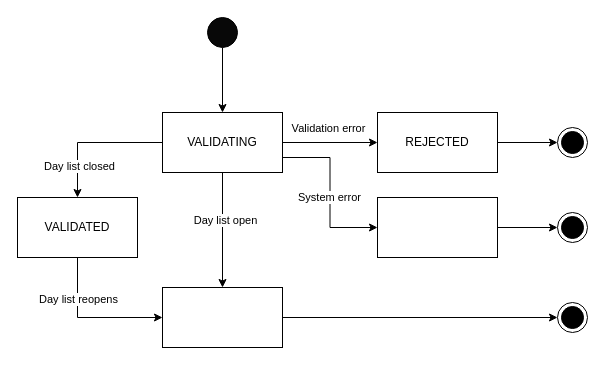
Image size: 605x365. Some labels were removed from this diagram. The shapes that lost their labels are listed below. From the top down, each one's centre as x and y in pixels, then its label:
At (x=437, y=227): "SYSTEM_ERROR".
At (x=222, y=317): "ACCEPTED".
